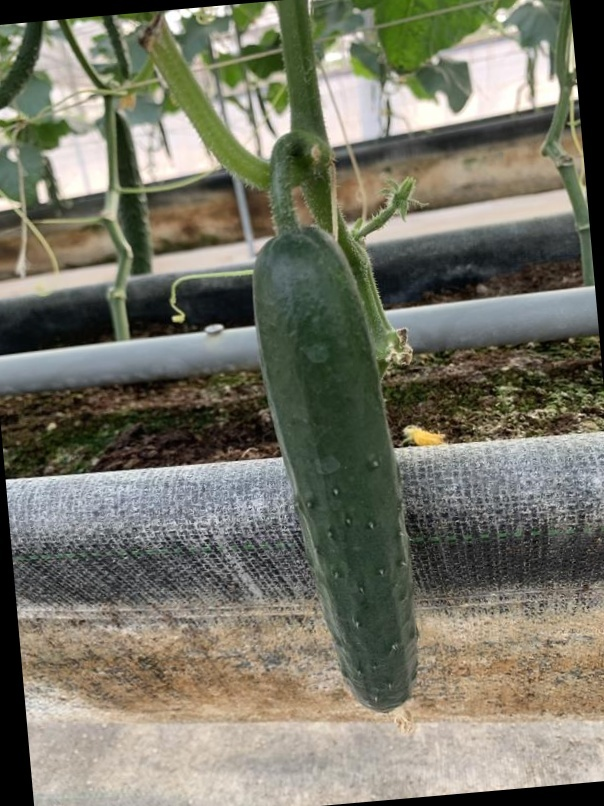mature: (251, 241, 423, 719)
